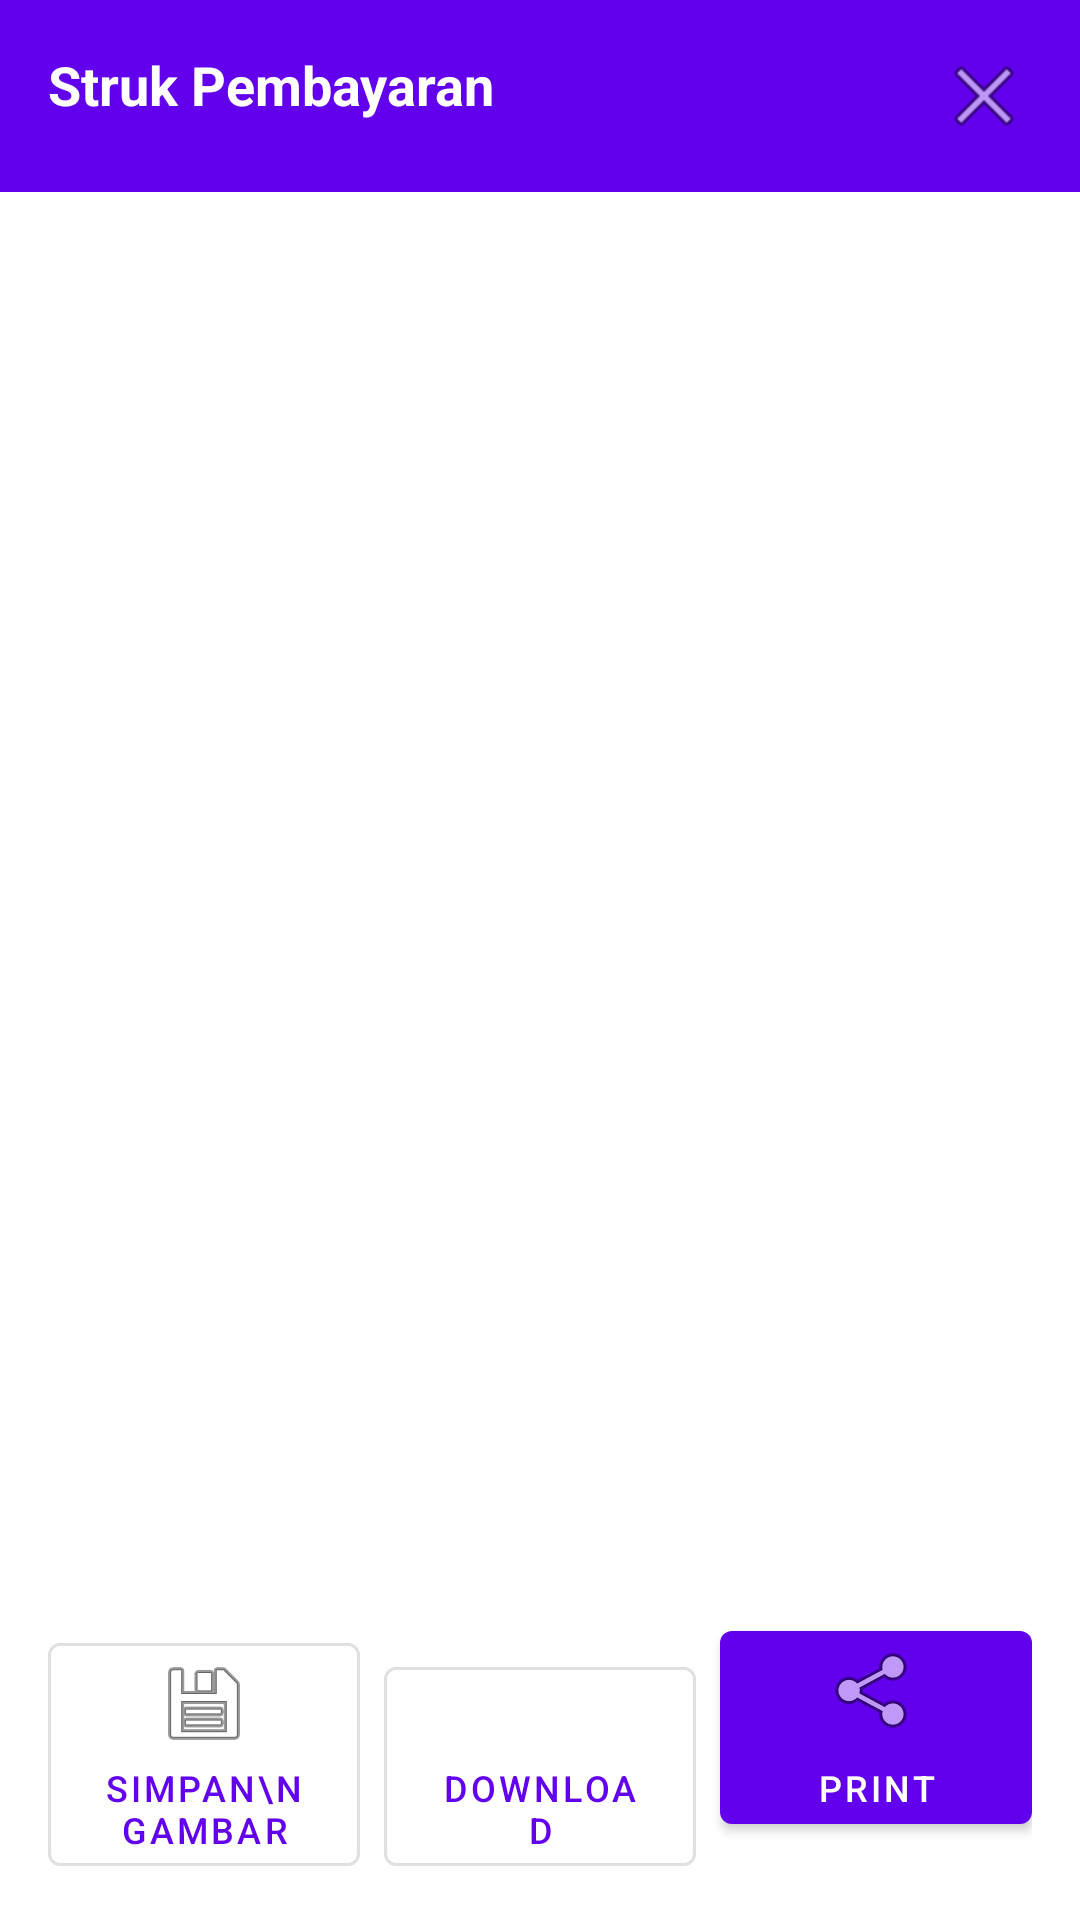

Screen size 1080px×1920px. Icon name, then its center in pixels as (x=x, y=y):
Tutup: (x=984, y=96)
